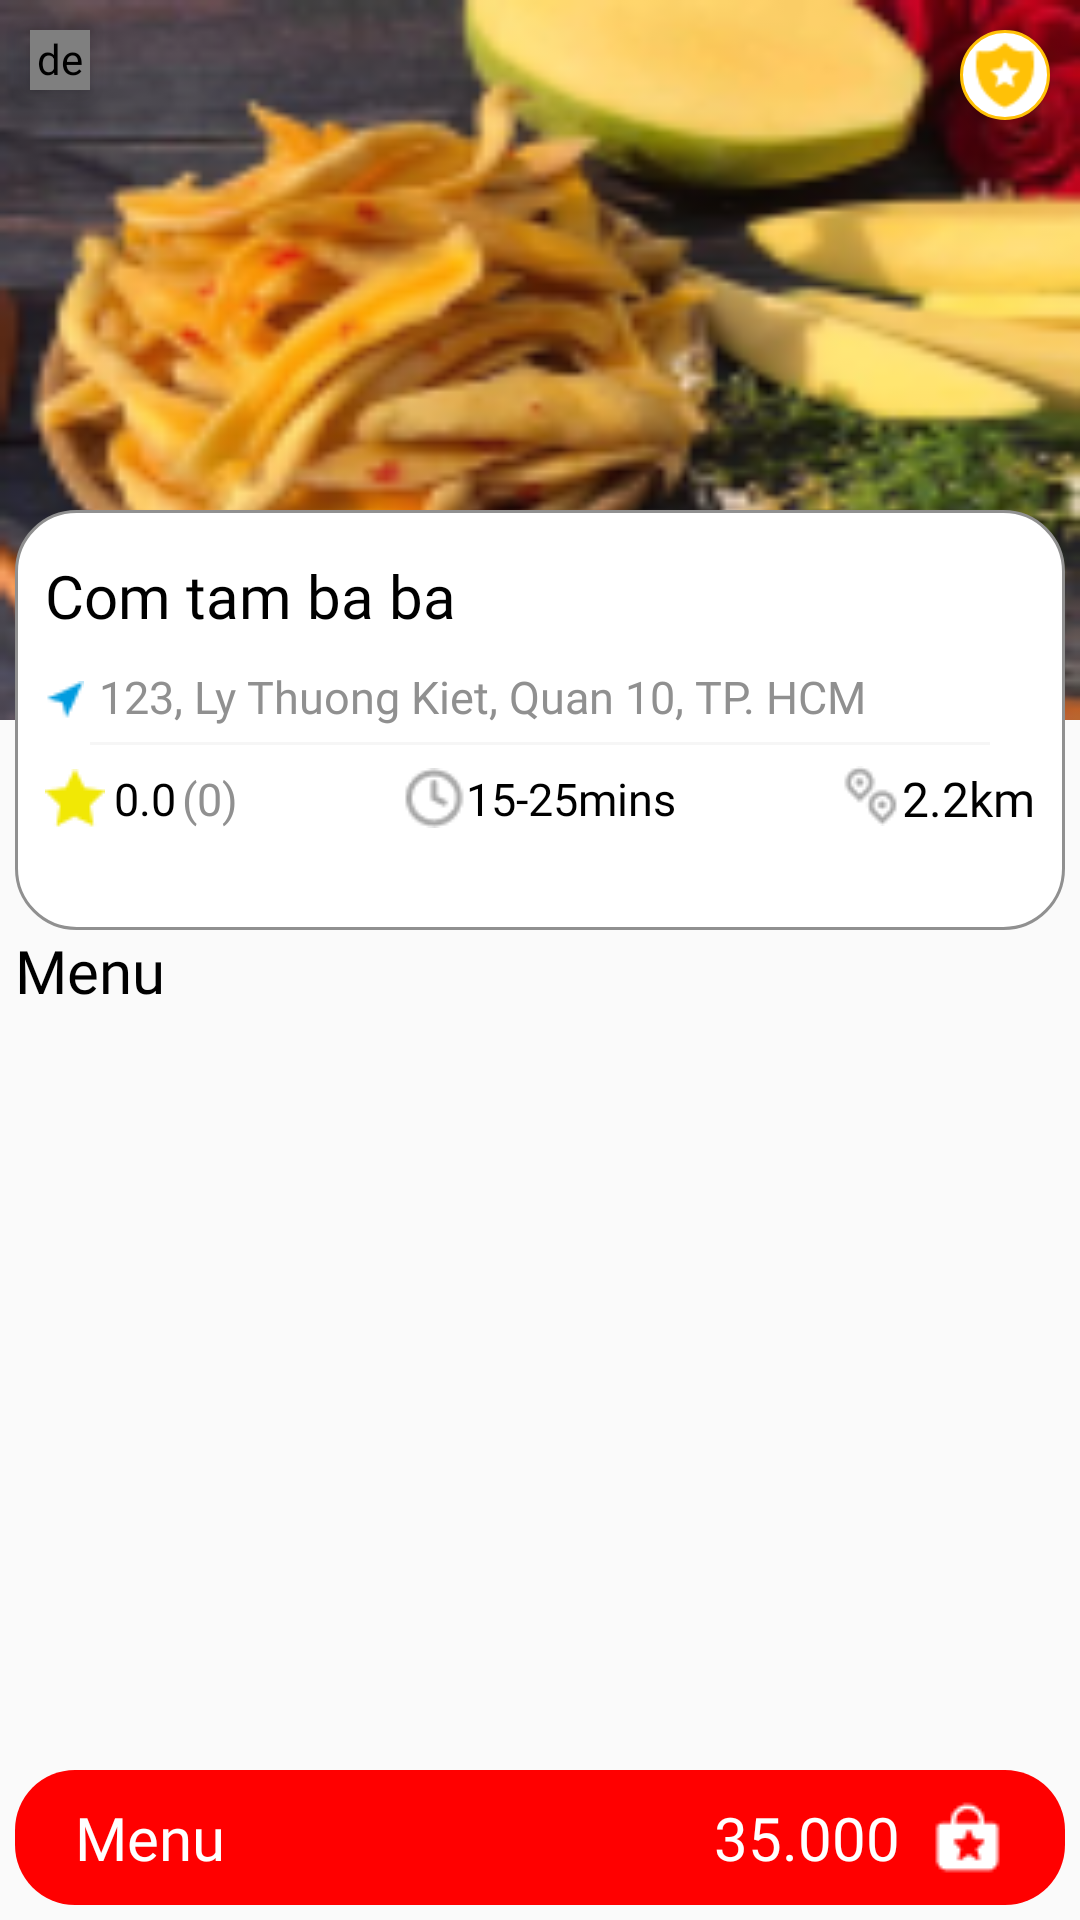

Where to tap for icons on this 1080px×1920px app screen, as point (x, y):
clock: point (434, 798)
location: point (871, 796)
partner: point (1005, 75)
star: point (75, 798)
